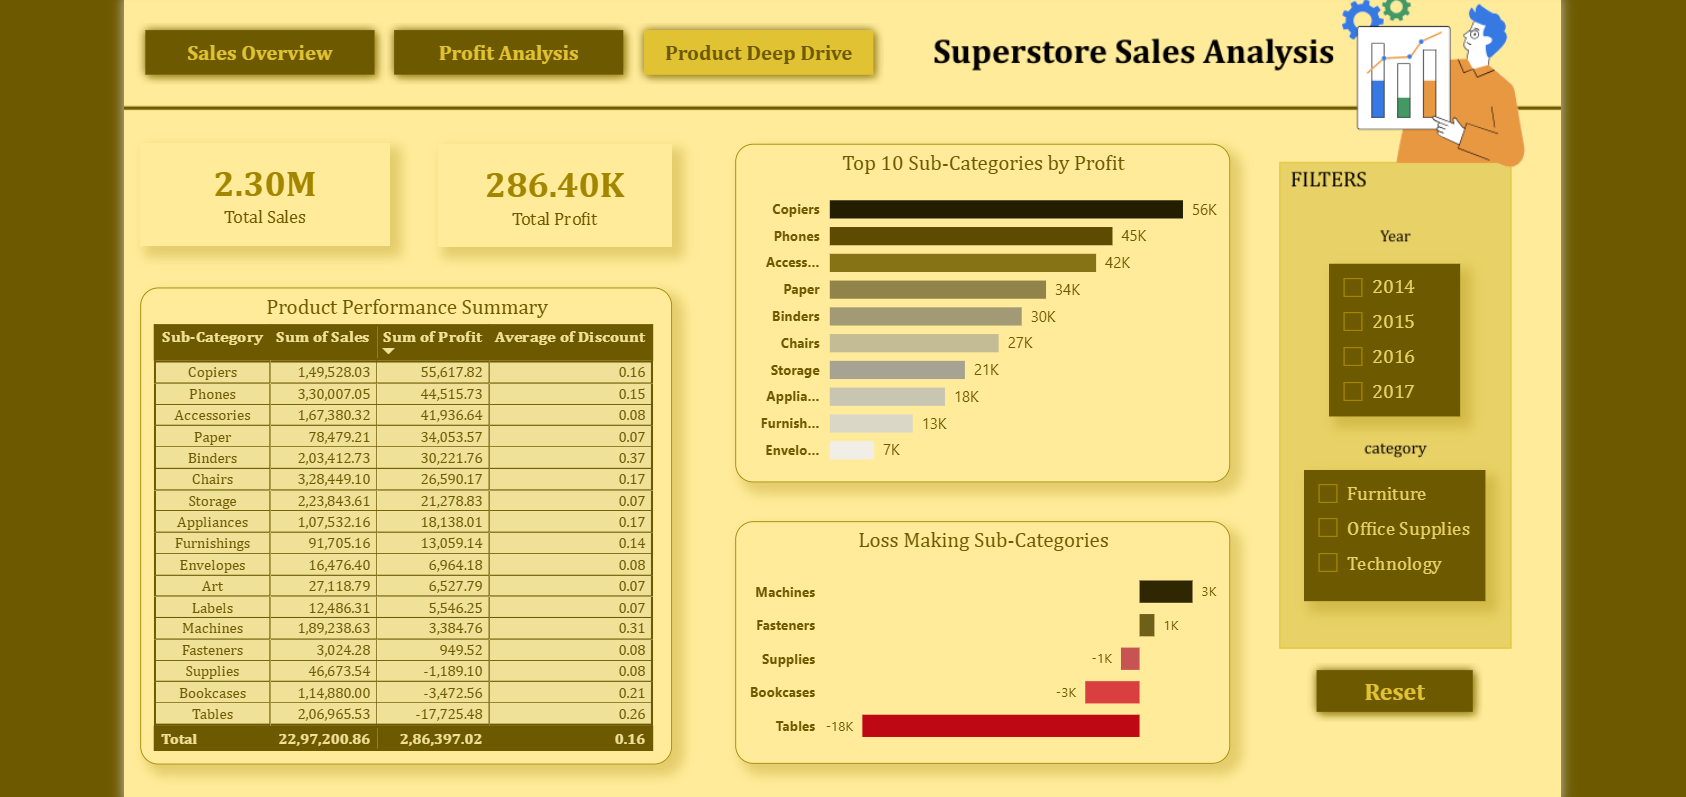

What the dashboard file says about the page in this screenshot:
{"tool":"powerbi","page":{"name":"Product Deep Dive","canvas":[1280,720],"ordinal":2},"visuals":[{"type":"cardVisual","fields":{"Data":["Sum(superstore_clean.Sales)"]},"box":[14.7,131.3,222.1,92],"z":0},{"type":"cardVisual","fields":{"Data":["Sum(superstore_clean.Profit)"]},"box":[279.8,132.5,208.6,92],"z":1000},{"type":"clusteredBarChart","title":"Top 10 Sub-Categories by Profit","fields":{"Y":["Sum(superstore_clean.Profit)"],"Category":["superstore_clean.Sub-Category"]},"box":[544.8,132.5,440.5,301.8],"z":2000},{"type":"clusteredBarChart","title":"Loss Making Sub-Categories","fields":{"Y":["Sum(superstore_clean.Profit)"],"Category":["superstore_clean.Sub-Category"]},"box":[544.8,468.7,440.5,216],"z":3000},{"type":"tableEx","title":"Product Performance Summary","fields":{"Values":["superstore_clean.Sub-Category","Sum(superstore_clean.Sales)","Sum(superstore_clean.Profit)","Avg(superstore_clean.Discount)"]},"box":[14.7,260.1,473.6,424.5],"z":4000},{"type":"slicer","fields":{"Values":["superstore_clean.Category"]},"box":[1050.3,423.3,162,116.6],"z":5000},{"type":"actionButton","box":[9.8,22.1,222.1,57.7],"z":6000},{"type":"actionButton","box":[231.9,22.1,222.1,57.7],"z":7000},{"type":"actionButton","box":[454,22.1,222.1,57.7],"z":8000},{"type":"slicer","fields":{"Values":["superstore_clean.Year"]},"box":[1073.6,239.3,116.6,136.2],"z":9000},{"type":"actionButton","box":[1052.8,592.6,157.1,55.2],"z":10000}]}

Visuals, with their boxes on the page's 1280x720 design canvas (x1, y1, x2, y2). These are canvas units, not pixel positions in the 1686x797 screenshot, which may show the page scaled, cropped or inside an application window:
cardVisual - Sum(superstore_clean.Sales): [left=15, top=131, right=237, bottom=223]
cardVisual - Sum(superstore_clean.Profit): [left=280, top=132, right=488, bottom=224]
"Top 10 Sub-Categories by Profit" clusteredBarChart: [left=545, top=132, right=985, bottom=434]
"Loss Making Sub-Categories" clusteredBarChart: [left=545, top=469, right=985, bottom=685]
"Product Performance Summary" tableEx: [left=15, top=260, right=488, bottom=685]
slicer - superstore_clean.Category: [left=1050, top=423, right=1212, bottom=540]
actionButton: [left=10, top=22, right=232, bottom=80]
actionButton: [left=232, top=22, right=454, bottom=80]
actionButton: [left=454, top=22, right=676, bottom=80]
slicer - superstore_clean.Year: [left=1074, top=239, right=1190, bottom=376]
actionButton: [left=1053, top=593, right=1210, bottom=648]
